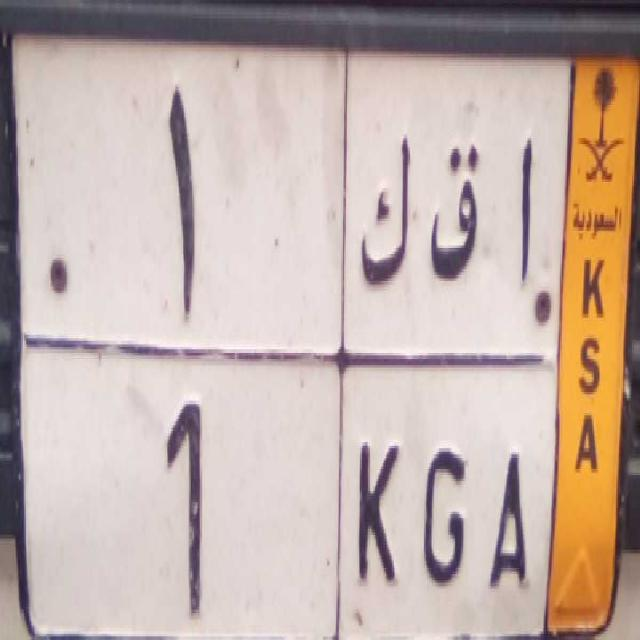license_plate: (58, 374, 546, 640)
